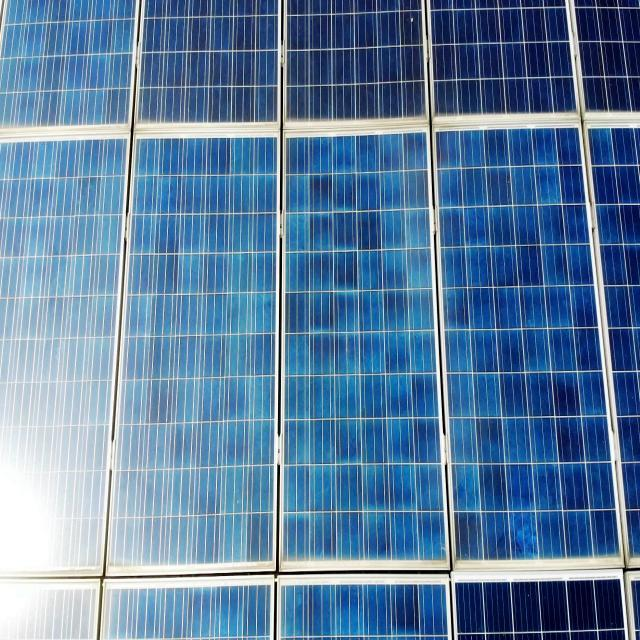no faulty: (436, 130, 628, 572), (0, 3, 640, 127), (282, 128, 454, 572), (128, 128, 279, 570), (1, 132, 135, 580)
